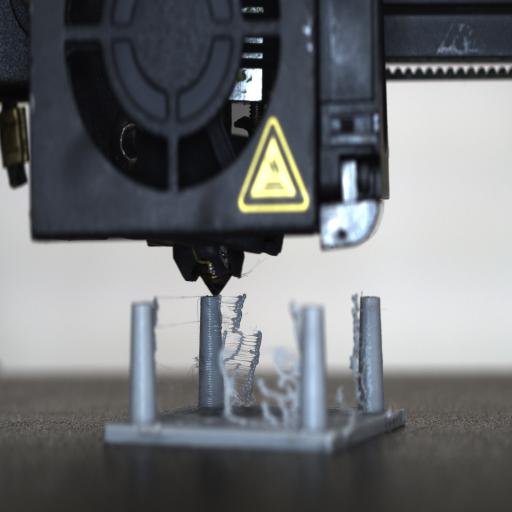stringing: (224, 294, 266, 404)
